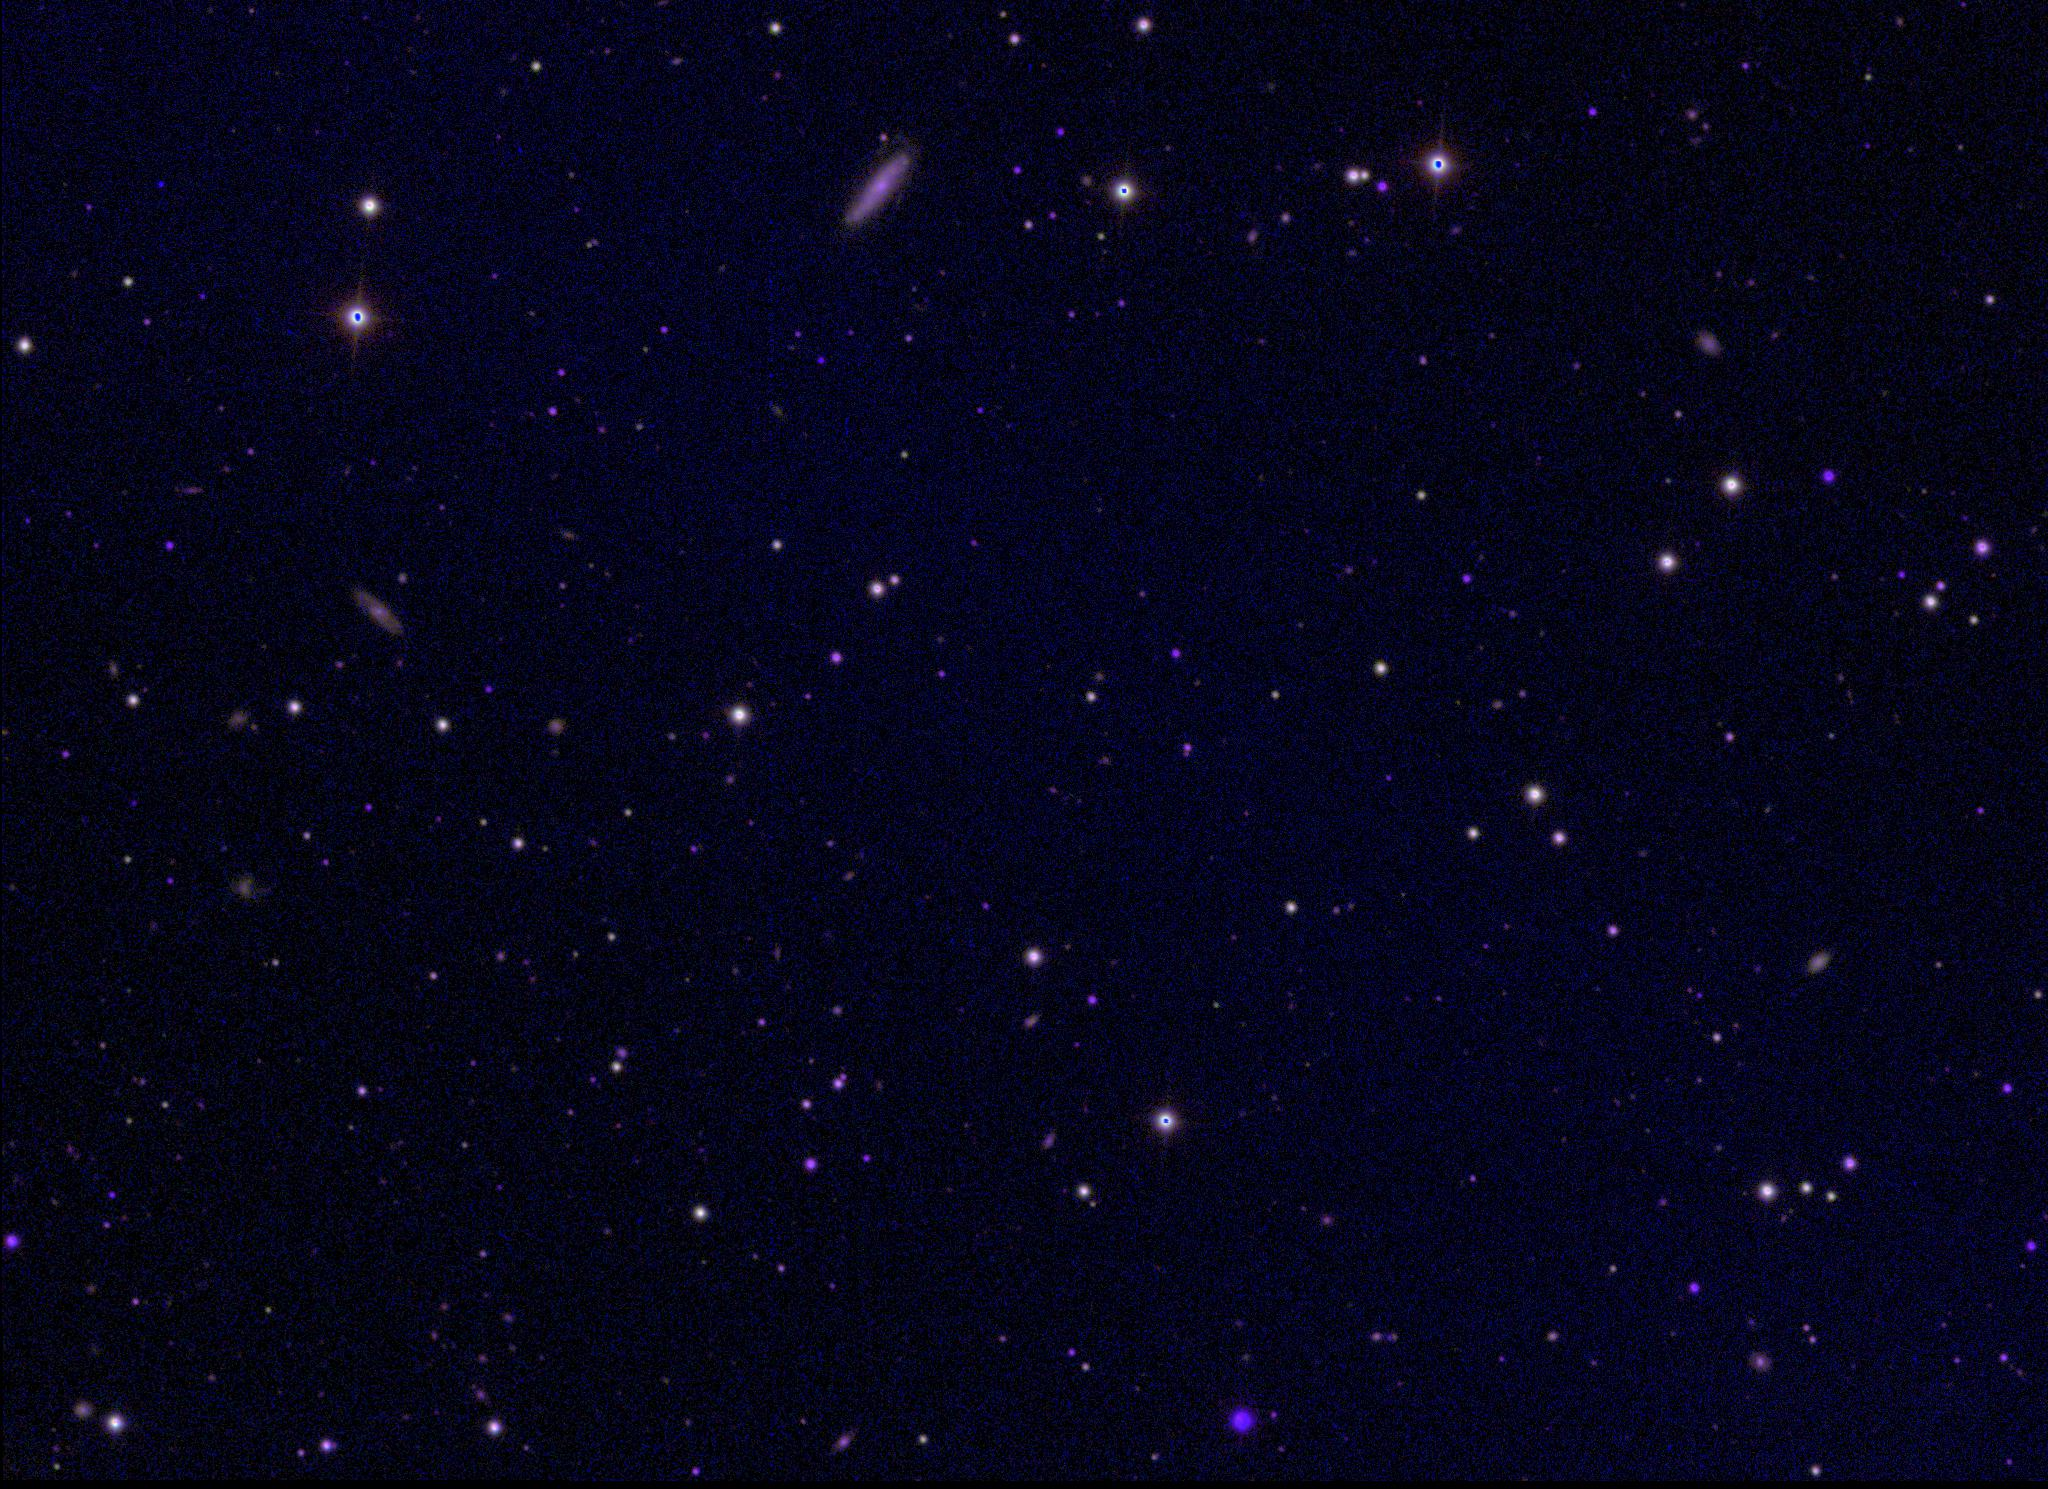L: (153, 175, 167, 189)
